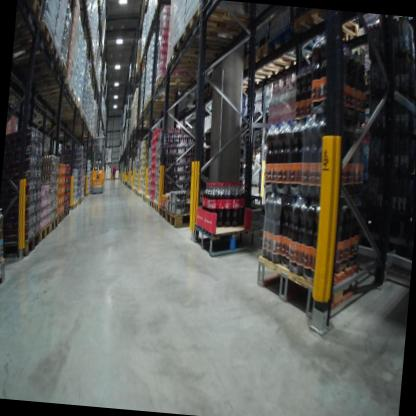pallet: (253, 241, 368, 315), (270, 8, 359, 65), (191, 214, 257, 263), (184, 3, 245, 49), (168, 27, 244, 62), (10, 42, 59, 89), (14, 20, 55, 67), (21, 58, 68, 95), (16, 0, 46, 43), (164, 48, 213, 74), (154, 70, 196, 96), (4, 230, 40, 260), (164, 207, 194, 230), (37, 221, 51, 245), (0, 260, 7, 294), (49, 213, 59, 232), (159, 204, 168, 222), (152, 203, 161, 219), (57, 209, 65, 224), (63, 206, 71, 219), (144, 193, 150, 207), (149, 198, 156, 209)
pallet_truck: (87, 130, 112, 200)
